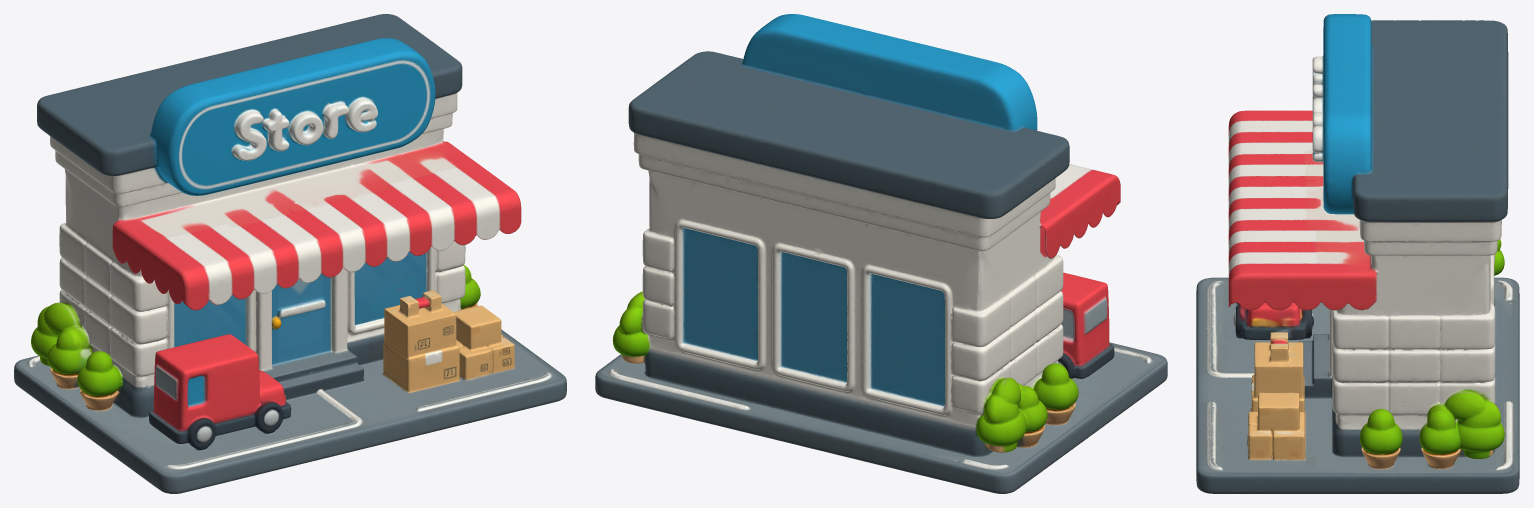
The model's file is toystore-storefront.glb.
3 views of the same model, side by side, from view 1: azimuth 30°, elevation 25°; view 2: azimuth 150°, elevation 25°; view 3: azimuth 270°, elevation 25° (orthographic). The views are drawn at different scales.
Size of the model in its own units: 1.9 by 1.46 by 1.3.
Materials: 1 (1 with a texture image).
